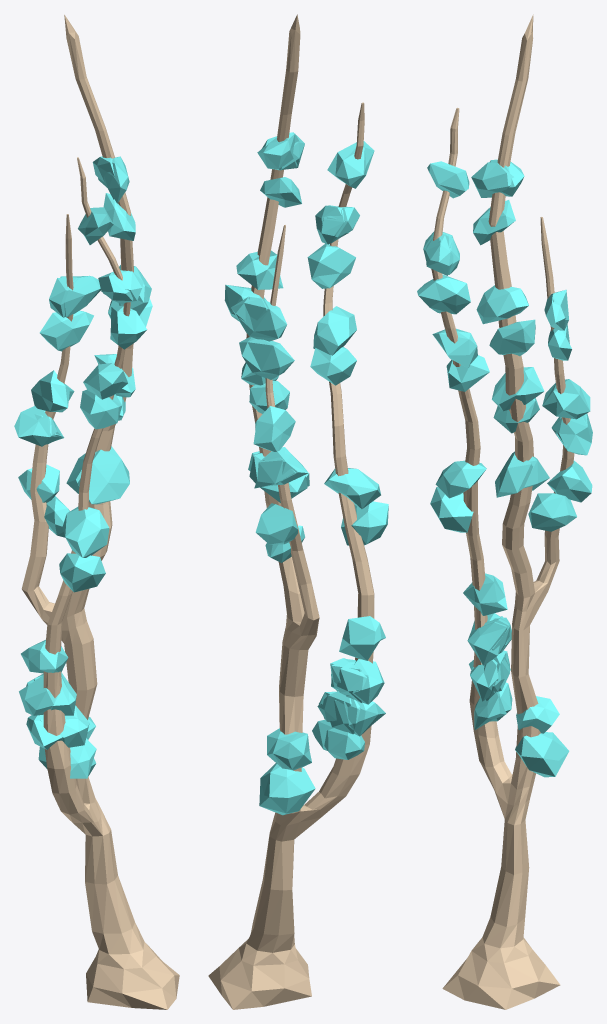
The model's file is bizarretree1.obj.
3 renders of one model, left to right at view 1: azimuth 30°, elevation 25°; view 2: azimuth 150°, elevation 25°; view 3: azimuth 270°, elevation 25°, orthographic. The views are drawn at different scales.
Parts seen in each view (by area): view 1: Tree_Trunk_0, Tree_Leaves_0; view 2: Tree_Leaves_0, Tree_Trunk_0; view 3: Tree_Leaves_0, Tree_Trunk_0.
Boxes of the visible parts, box(x1,y1,x2,y2) form: Tree_Trunk_0: box(21, 14, 179, 1009); Tree_Leaves_0: box(14, 156, 152, 778); Tree_Leaves_0: box(224, 132, 388, 815); Tree_Trunk_0: box(208, 14, 374, 1009); Tree_Leaves_0: box(417, 159, 592, 777); Tree_Trunk_0: box(431, 14, 574, 1009).
Bounding box in the file's own units: 1.82 × 10.48 × 1.75.
